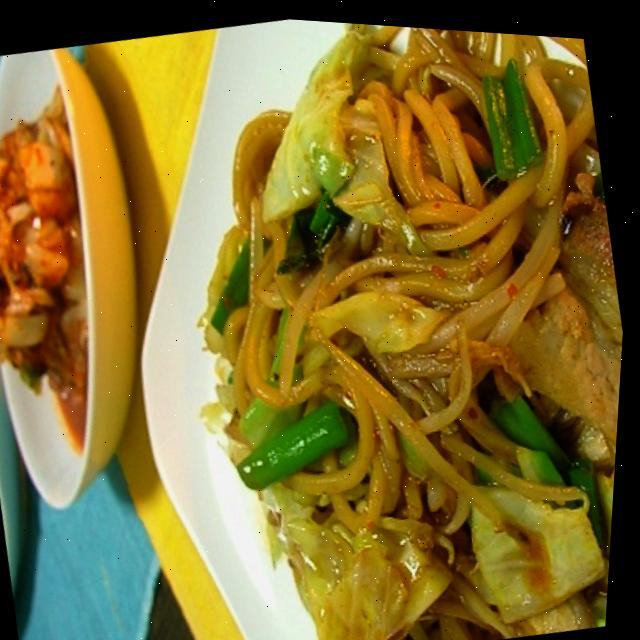面条主食: (122, 8, 640, 640)
